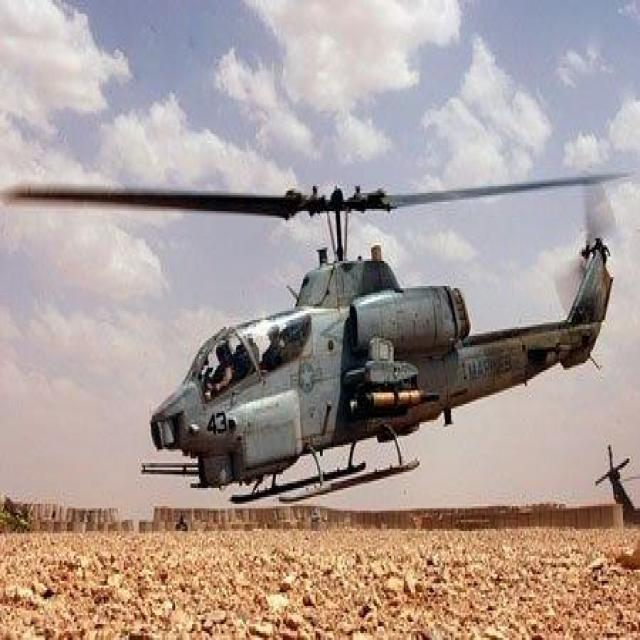MIL_HELO: (5, 153, 640, 524)
